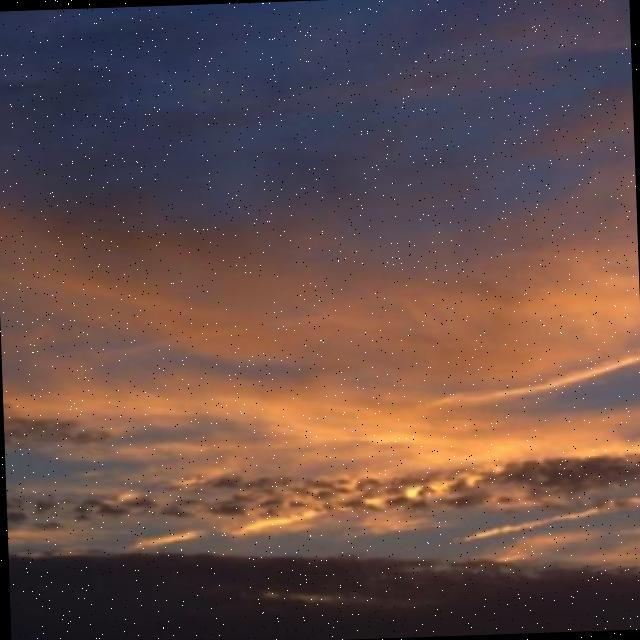Ci: (1, 90, 640, 584)
